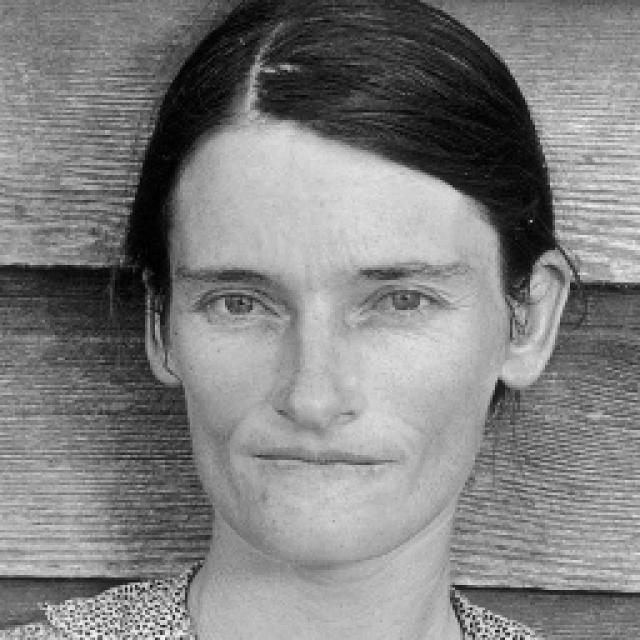no-glasses: (185, 269, 478, 348)
